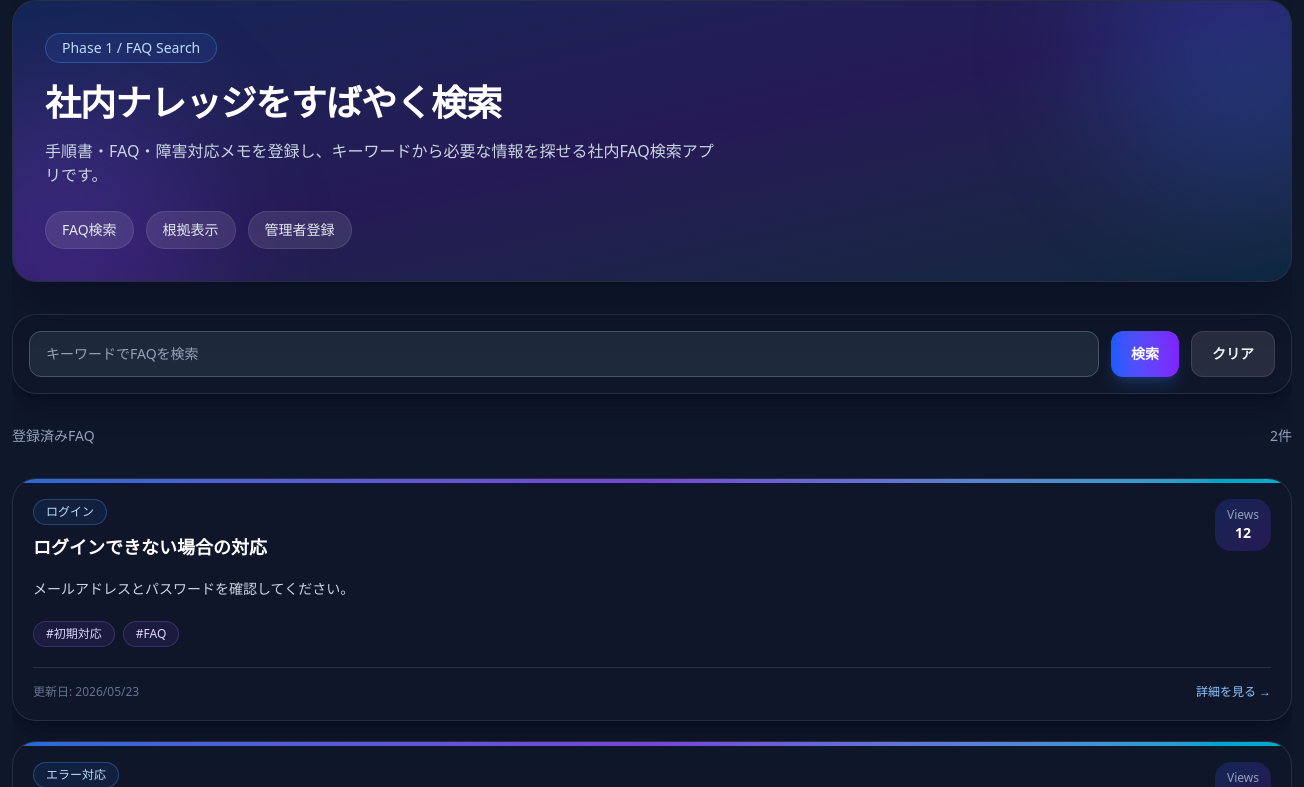
it: HomePage › 検索キーワードでFAQ検索できる
Check: the heading "ログインできない場合の対応" is shown, box [33,533,267,561]
Step 1. Type "ログイン" into the field with placeholder "キーワードでFAQを検索" → (564, 354), box [29,331,1099,377]
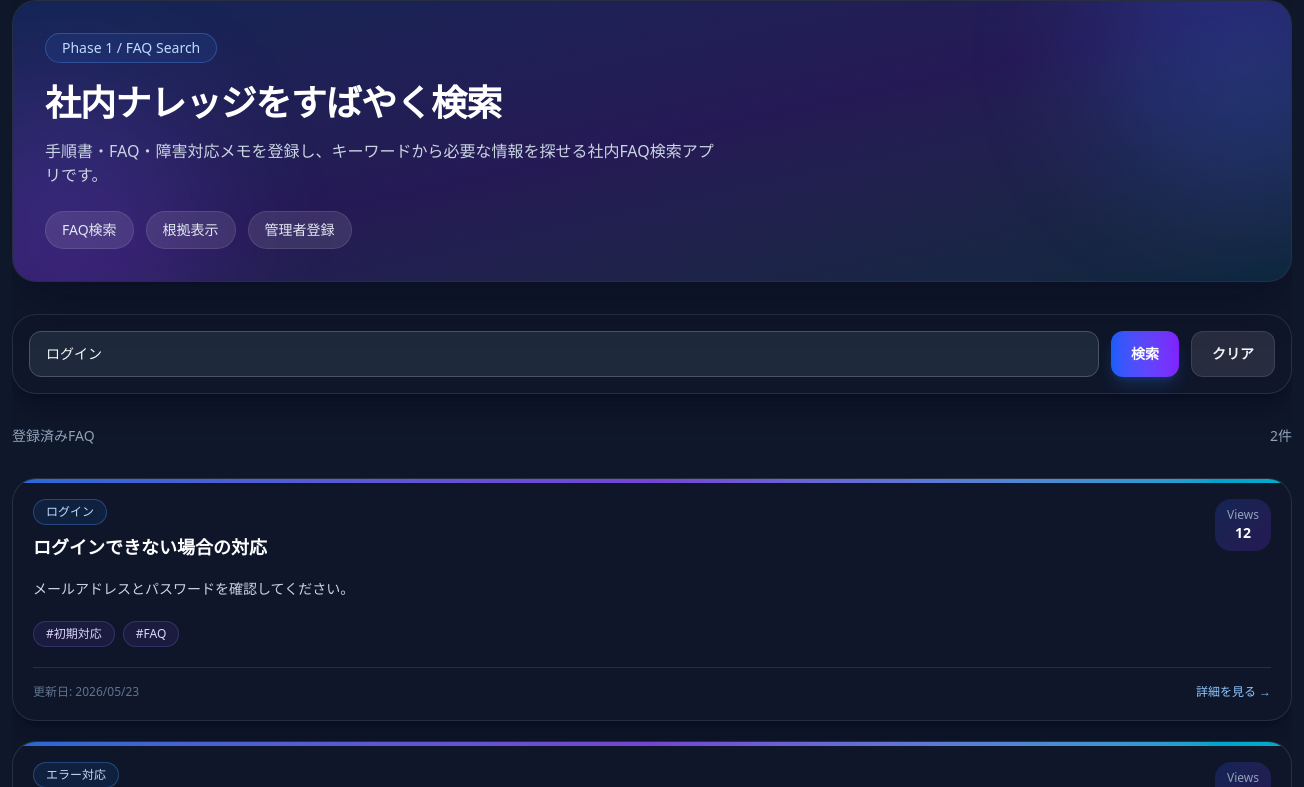
Step 2. Click the button "検索" → (1145, 354), box [1111,331,1179,377]
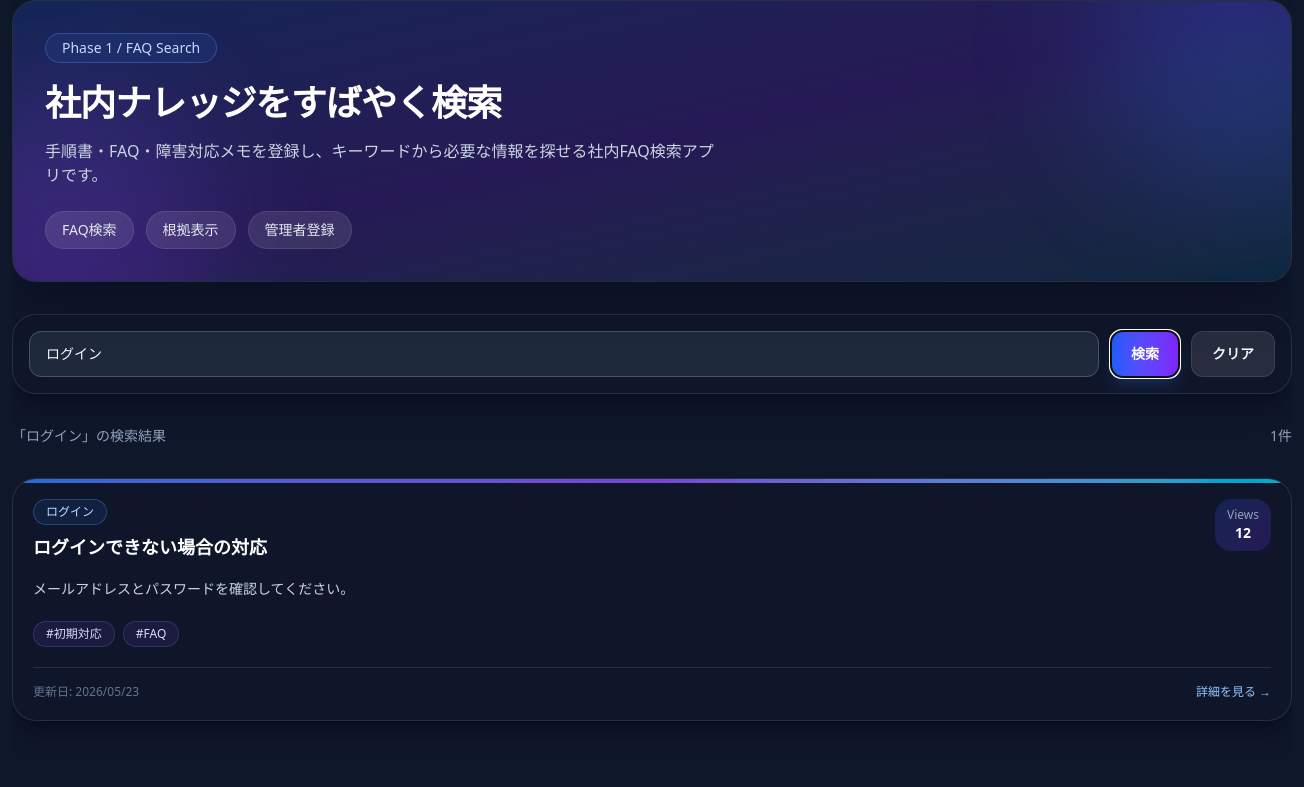
Check: the text "「ログイン」の検索結果" is shown, box [12,426,166,446]
